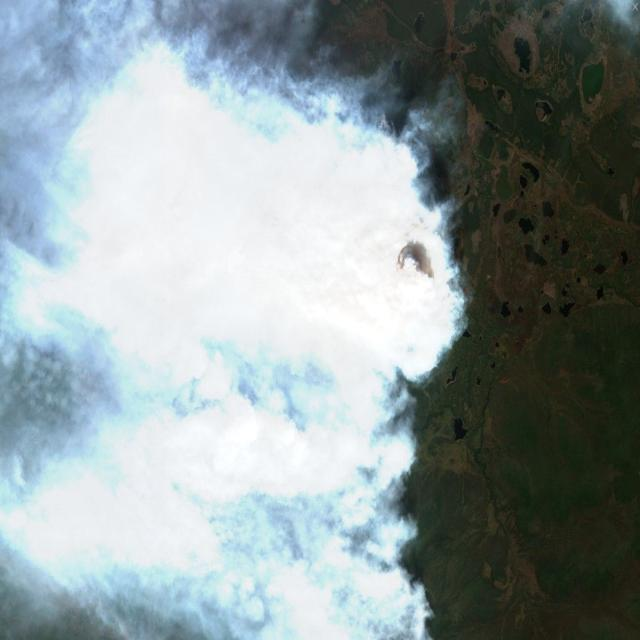fire: (278, 88, 456, 362)
